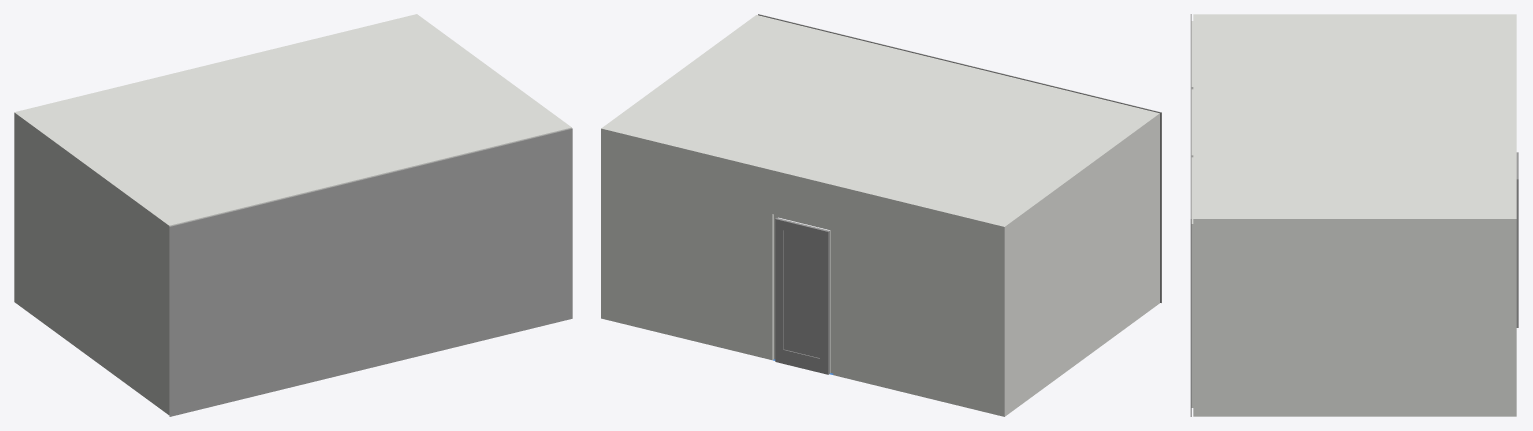
Rendered from Room_Modern_All.FBX.
3 renders of one model, left to right at view 1: azimuth 30°, elevation 25°; view 2: azimuth 150°, elevation 25°; view 3: azimuth 270°, elevation 25°, orthographic. The views are drawn at different scales.
Visible parts, largest first — view 1: Room_Modern_Wall_Door, Room_Modern_Window_Glass, Room_Modern_Window; view 2: Room_Modern_Wall_Door, Room_Modern_Door, Room_Modern_Window; view 3: Room_Modern_Wall_Door, Room_Modern_Window, Room_Modern_Door.
Part boxes in pixels (left/top/right/bottom): Room_Modern_Wall_Door: left=14, top=14, right=571, bottom=415; Room_Modern_Window_Glass: left=171, top=132, right=570, bottom=411; Room_Modern_Window: left=169, top=128, right=572, bottom=416; Room_Modern_Wall_Door: left=601, top=15, right=1159, bottom=416; Room_Modern_Door: left=775, top=218, right=829, bottom=374; Room_Modern_Window: left=758, top=14, right=1161, bottom=302; Room_Modern_Wall_Door: left=1191, top=14, right=1516, bottom=416; Room_Modern_Window: left=1190, top=14, right=1191, bottom=416; Room_Modern_Door: left=1516, top=152, right=1518, bottom=327.
Bounding box in the file's own units: 601 × 271 × 406.
3 materials, 1 textured.
